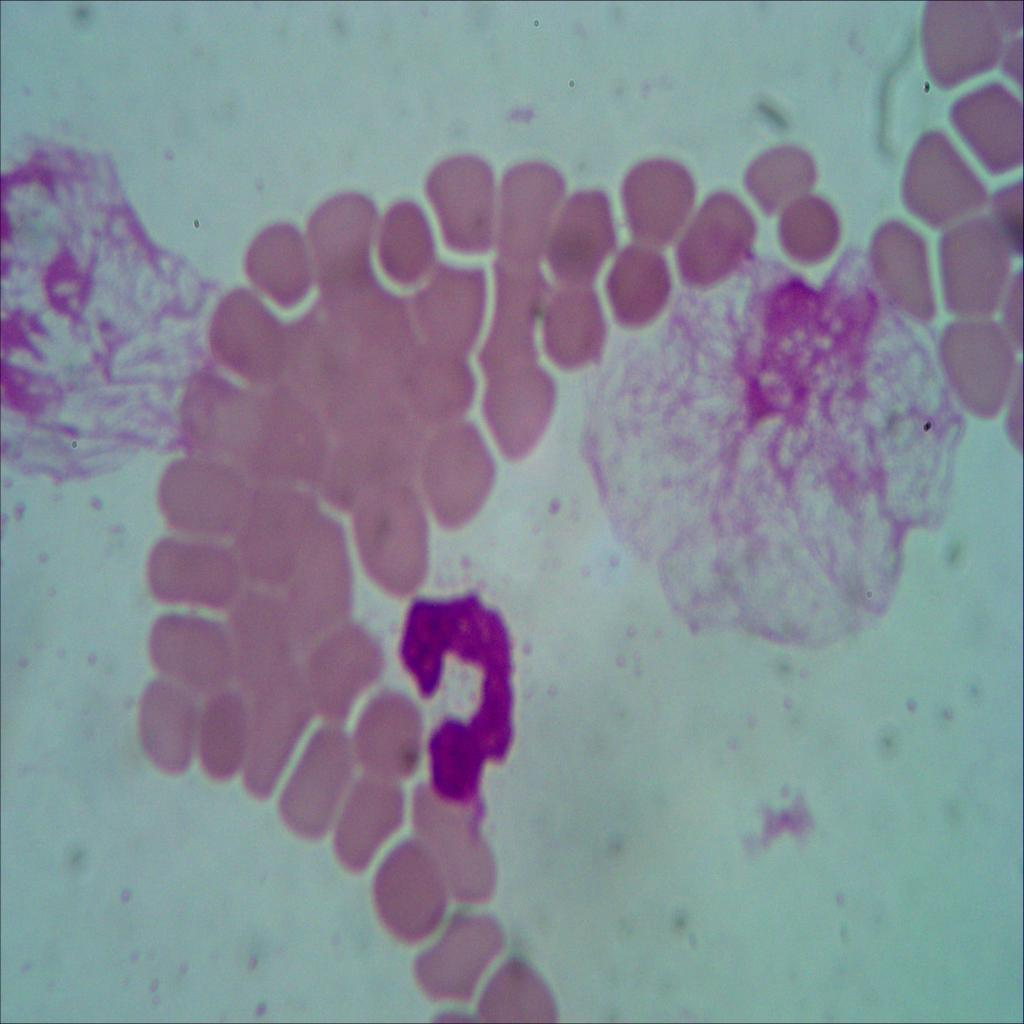Eritrosit: (932, 300, 1024, 438), (346, 479, 438, 595), (675, 182, 759, 304), (273, 511, 353, 639), (900, 119, 989, 233), (867, 208, 946, 334), (418, 778, 502, 892), (140, 514, 240, 607), (277, 724, 355, 840), (414, 912, 508, 1008), (412, 430, 502, 530), (932, 210, 1012, 320), (135, 679, 215, 785), (529, 274, 610, 376), (763, 195, 855, 284), (142, 610, 241, 692), (492, 146, 559, 262), (236, 222, 323, 311), (478, 255, 546, 368), (420, 154, 502, 247), (203, 277, 284, 371), (487, 352, 554, 465), (598, 233, 675, 330), (380, 831, 447, 942), (954, 71, 1024, 173), (146, 460, 246, 531), (403, 256, 480, 348), (356, 688, 429, 782), (616, 157, 688, 252), (919, 0, 993, 92), (302, 630, 387, 710), (176, 373, 253, 460), (242, 693, 312, 788), (544, 174, 608, 272), (303, 195, 372, 284), (373, 180, 431, 282), (196, 687, 256, 783), (342, 783, 406, 872), (745, 138, 813, 216), (479, 964, 562, 1024), (411, 347, 475, 417)
